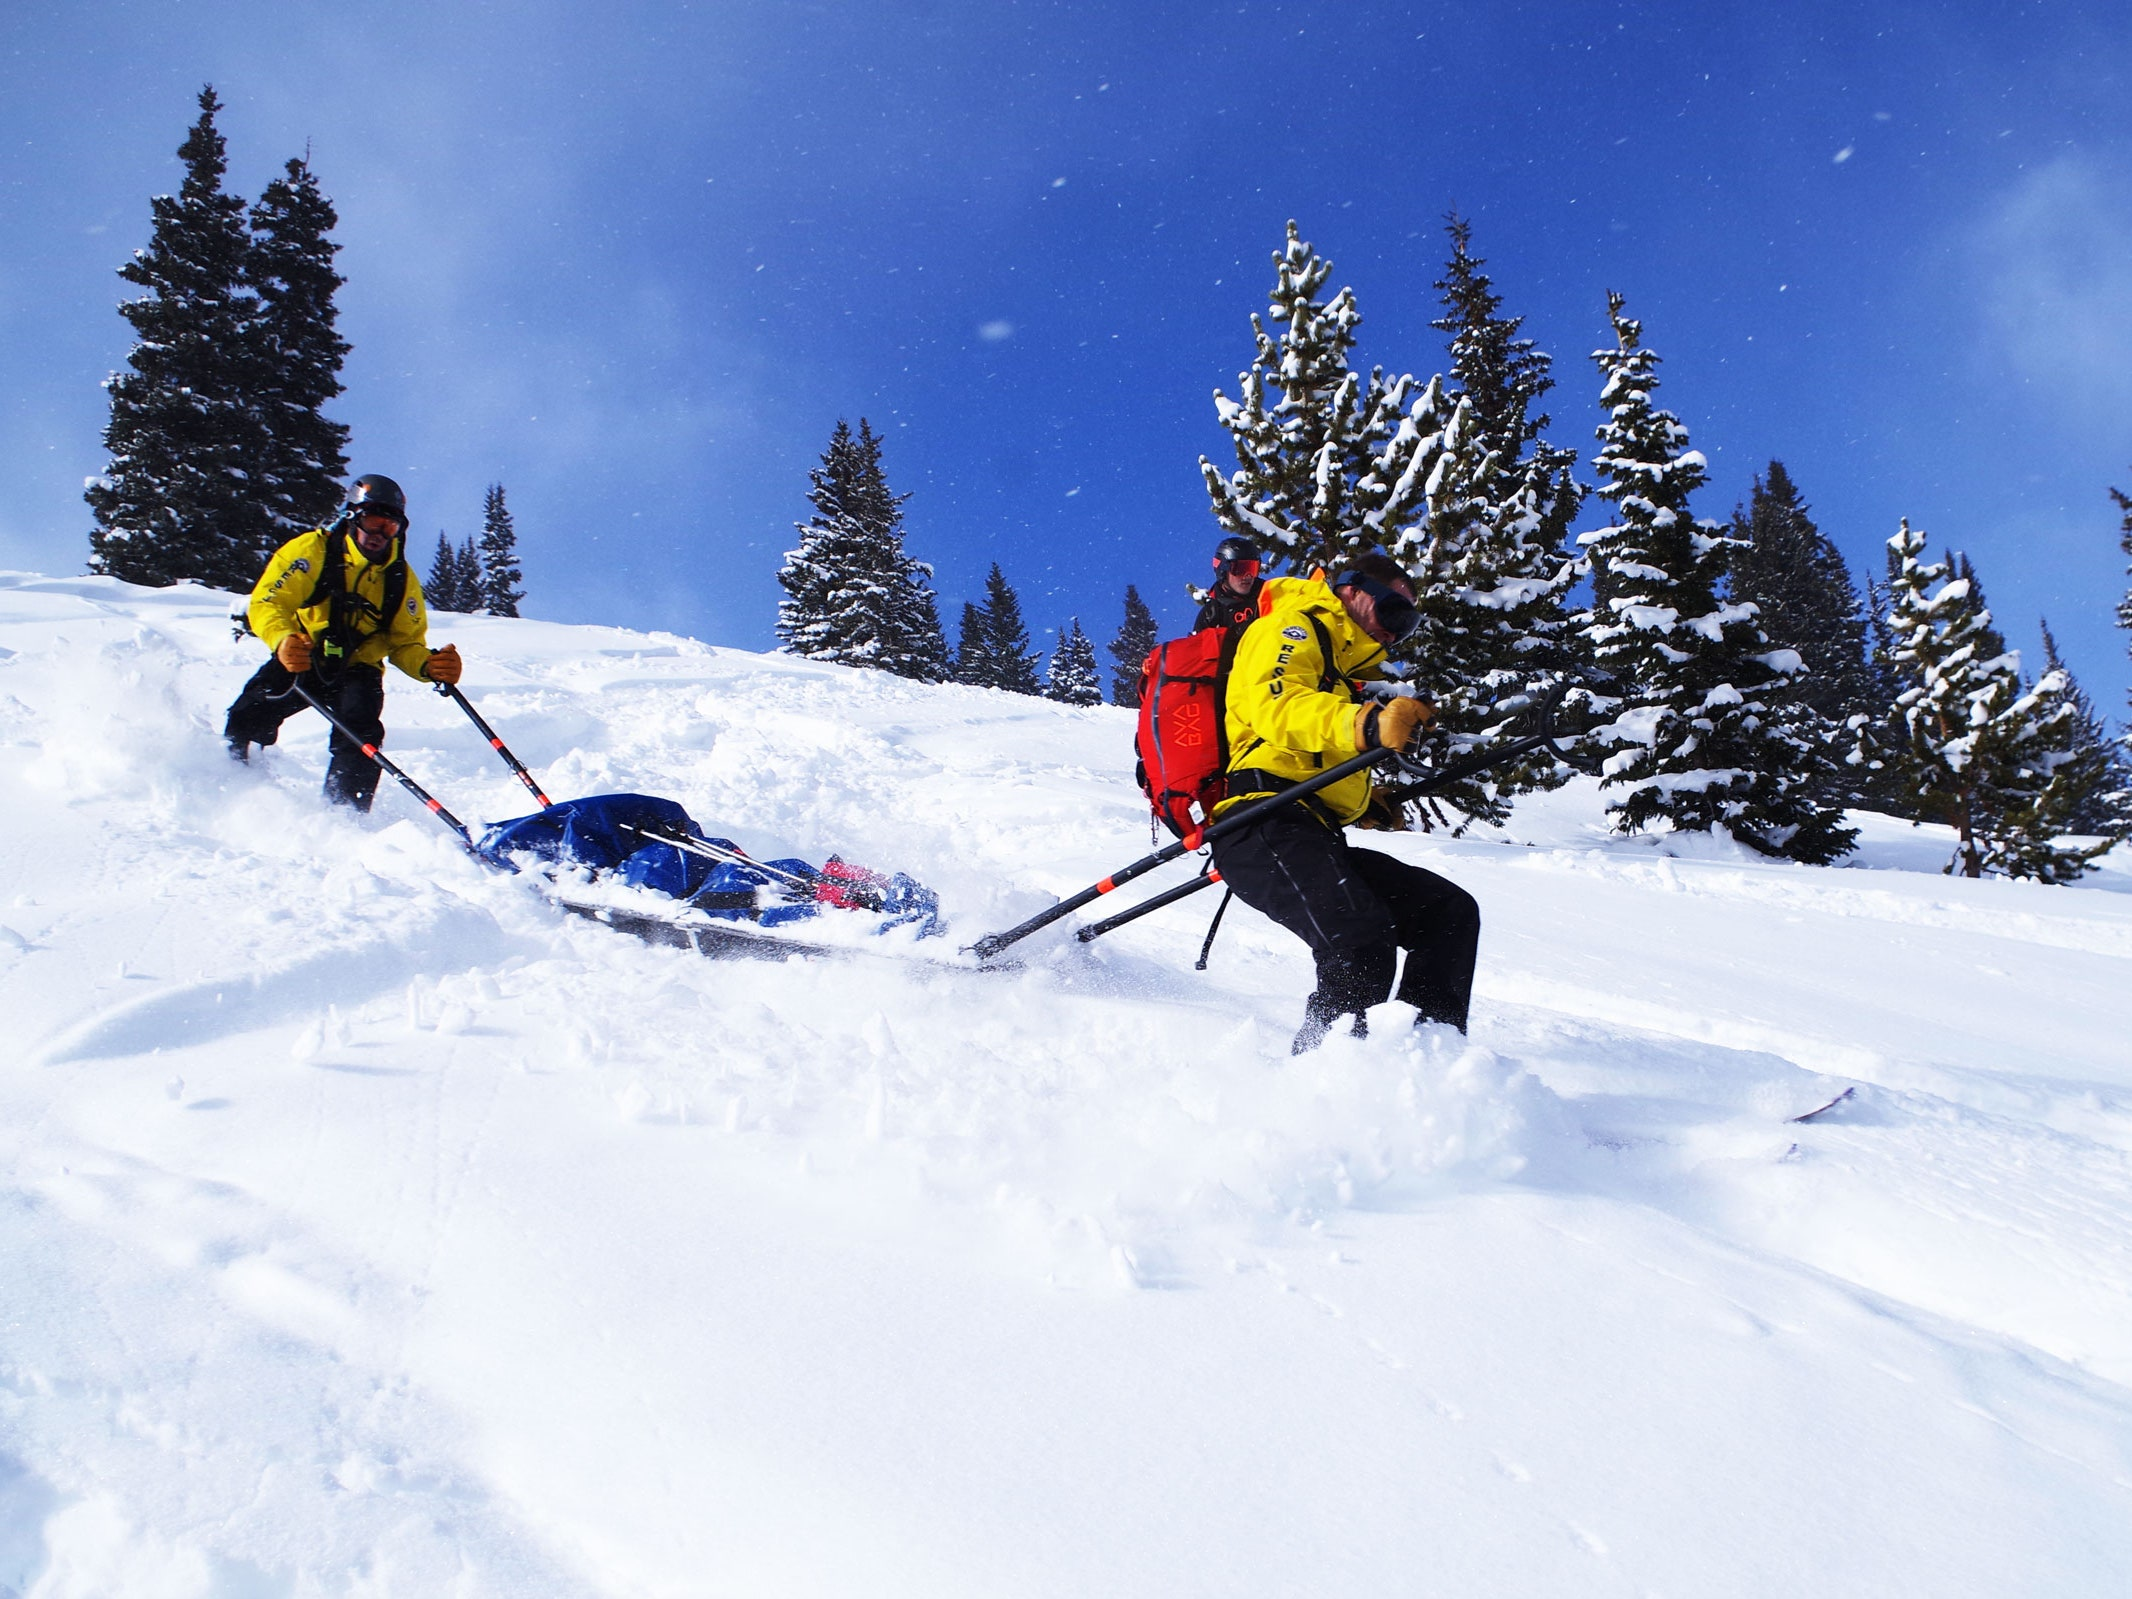skier: (1011, 549, 1875, 1161)
